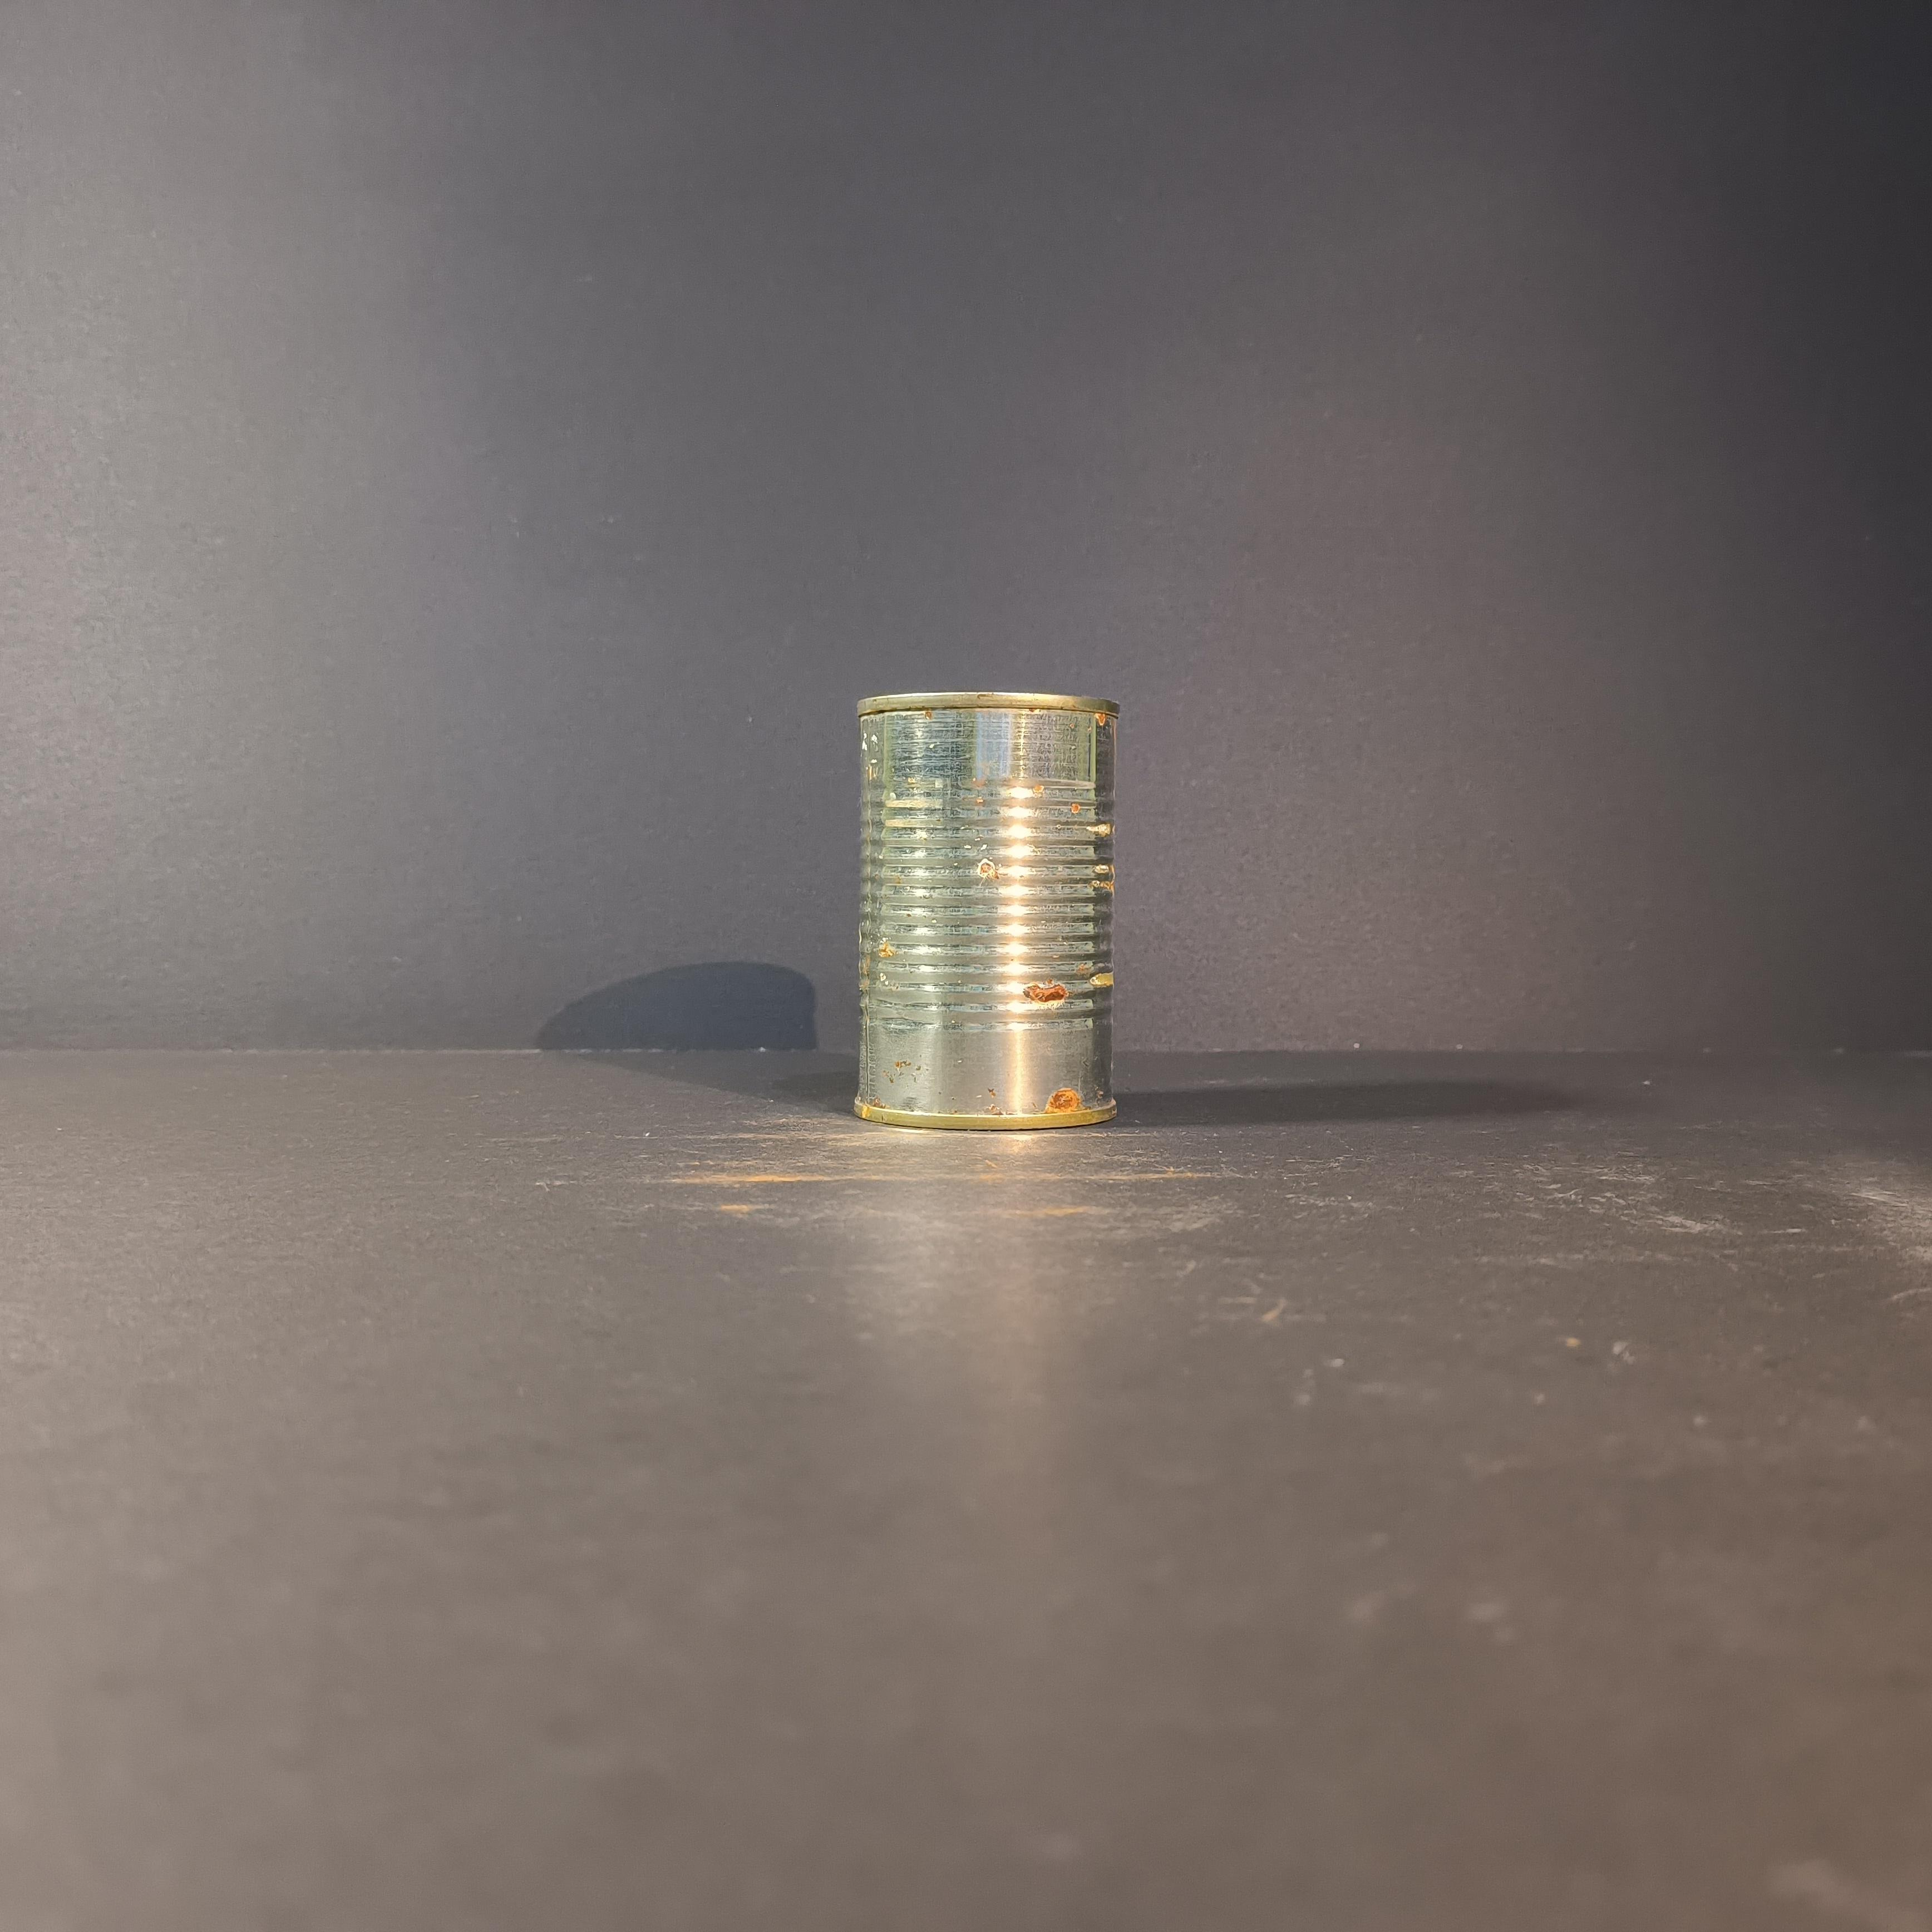Rusted: (842, 681, 1136, 1136)
